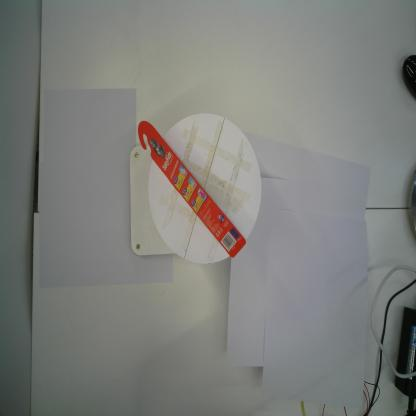Personal Hygiene: (137, 119, 247, 259)
